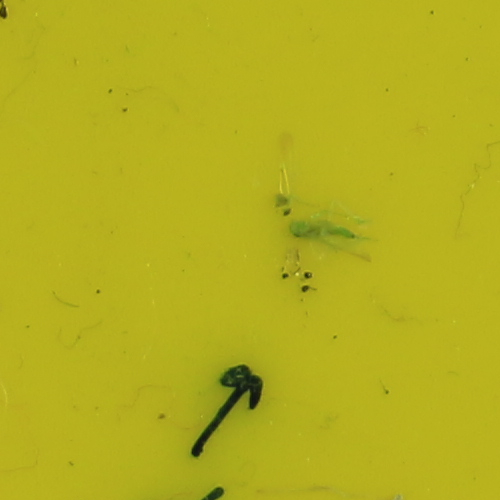cicada: (284, 217, 313, 241)
